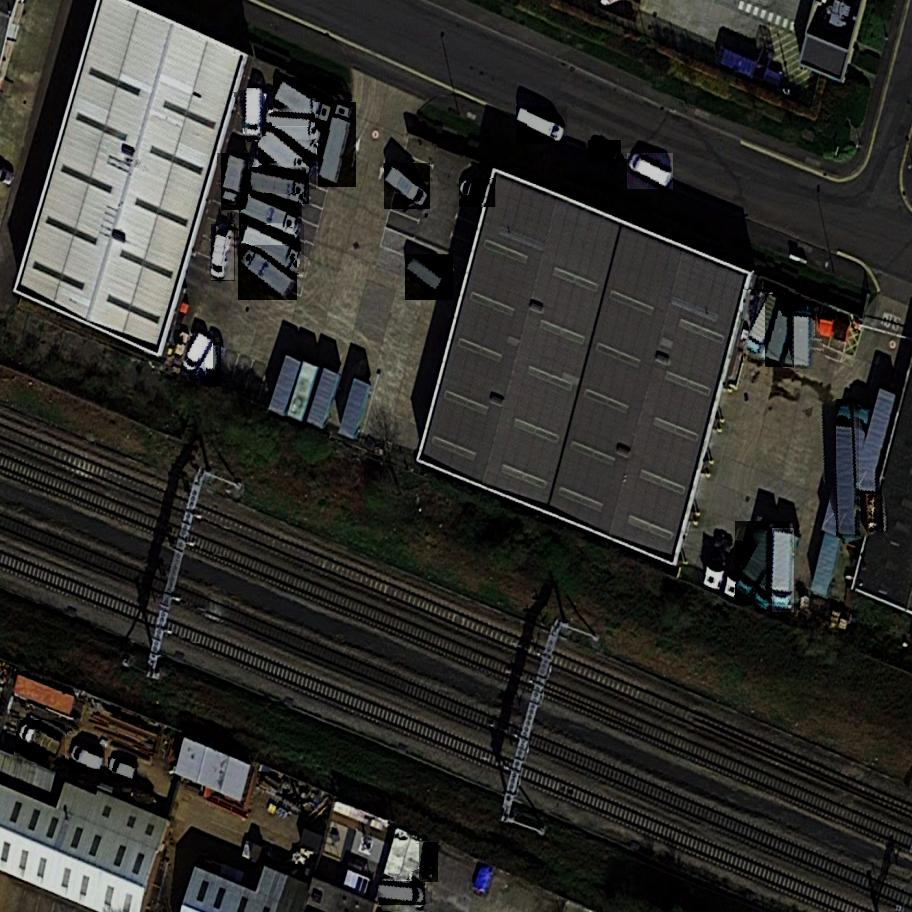large-vehicle: (733, 522, 791, 605), (254, 128, 319, 190), (317, 102, 361, 188), (272, 77, 337, 132), (237, 245, 299, 300), (742, 290, 789, 361), (239, 225, 307, 273), (837, 399, 859, 538), (239, 195, 306, 237), (764, 293, 802, 367), (247, 168, 313, 205), (402, 255, 455, 301), (16, 720, 68, 765), (382, 164, 434, 209), (513, 106, 569, 145), (260, 114, 326, 144), (626, 154, 675, 191), (773, 528, 794, 612), (221, 153, 249, 211), (795, 302, 816, 369), (212, 224, 236, 281), (245, 88, 263, 137)
small-vehicle: (180, 331, 215, 376), (378, 881, 427, 906), (68, 744, 108, 774), (458, 178, 497, 208), (586, 141, 623, 163), (420, 842, 440, 882), (108, 757, 141, 781), (204, 343, 221, 384)
